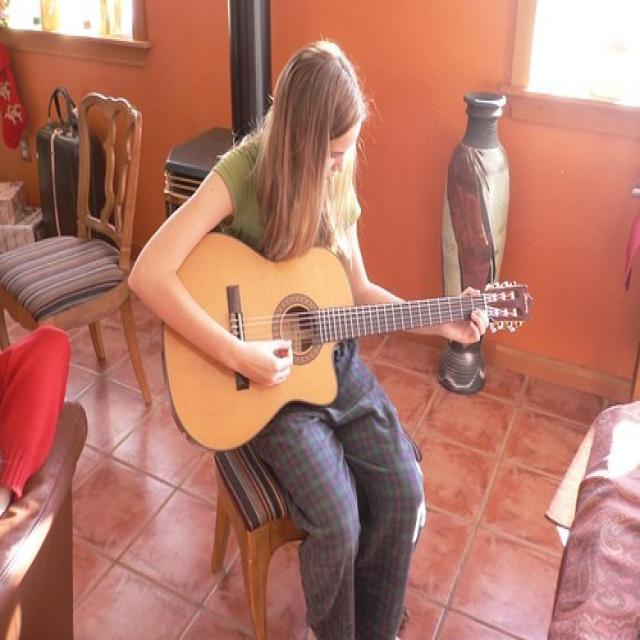guitar: (160, 230, 534, 454)
